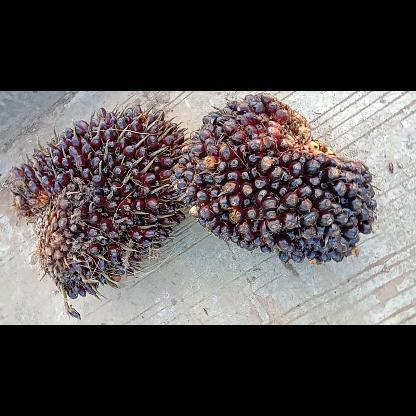TBS mentah: (13, 106, 188, 317), (188, 90, 376, 264)
